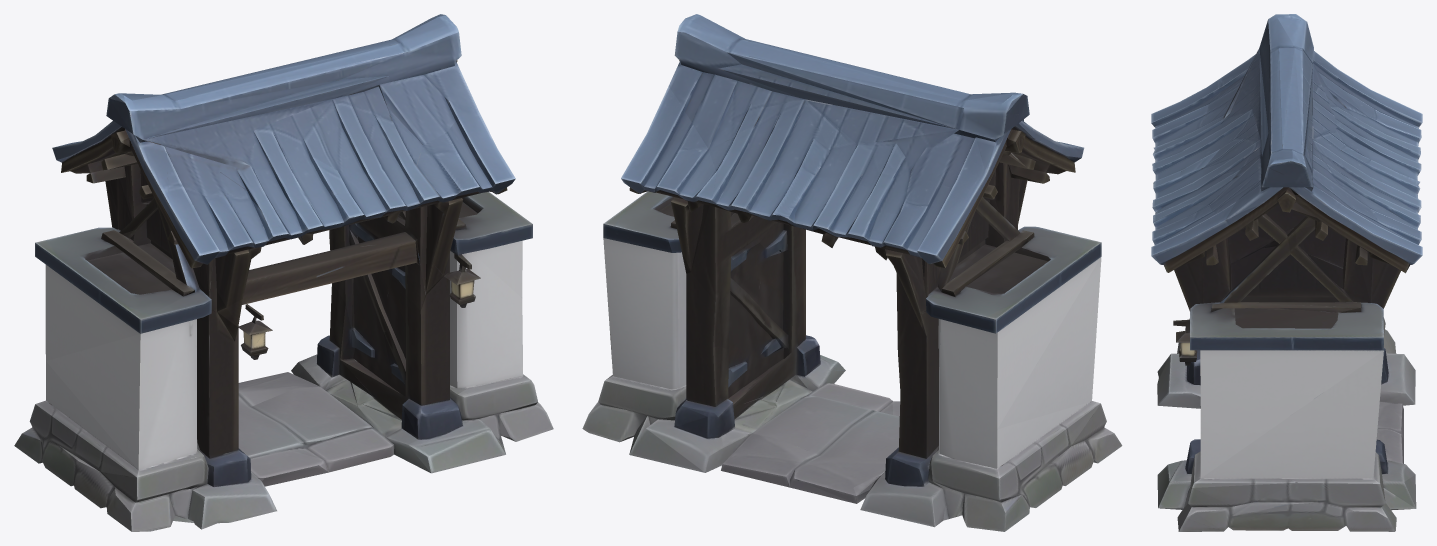
The model's file is gate.glb.
3 renders of one model, left to right at view 1: azimuth 30°, elevation 25°; view 2: azimuth 150°, elevation 25°; view 3: azimuth 270°, elevation 25°, orthographic. The views are drawn at different scales.
Visible parts, largest first — view 1: gate; view 2: gate; view 3: gate.
Boxes of the visible parts, x1,y1,x2,y2 form: gate: (14,14,553,531); gate: (582,14,1122,531); gate: (1151,14,1422,531).
Bounding box in the file's own units: 8.05 × 7 × 4.88.
Materials: 1 (1 with a texture image).
